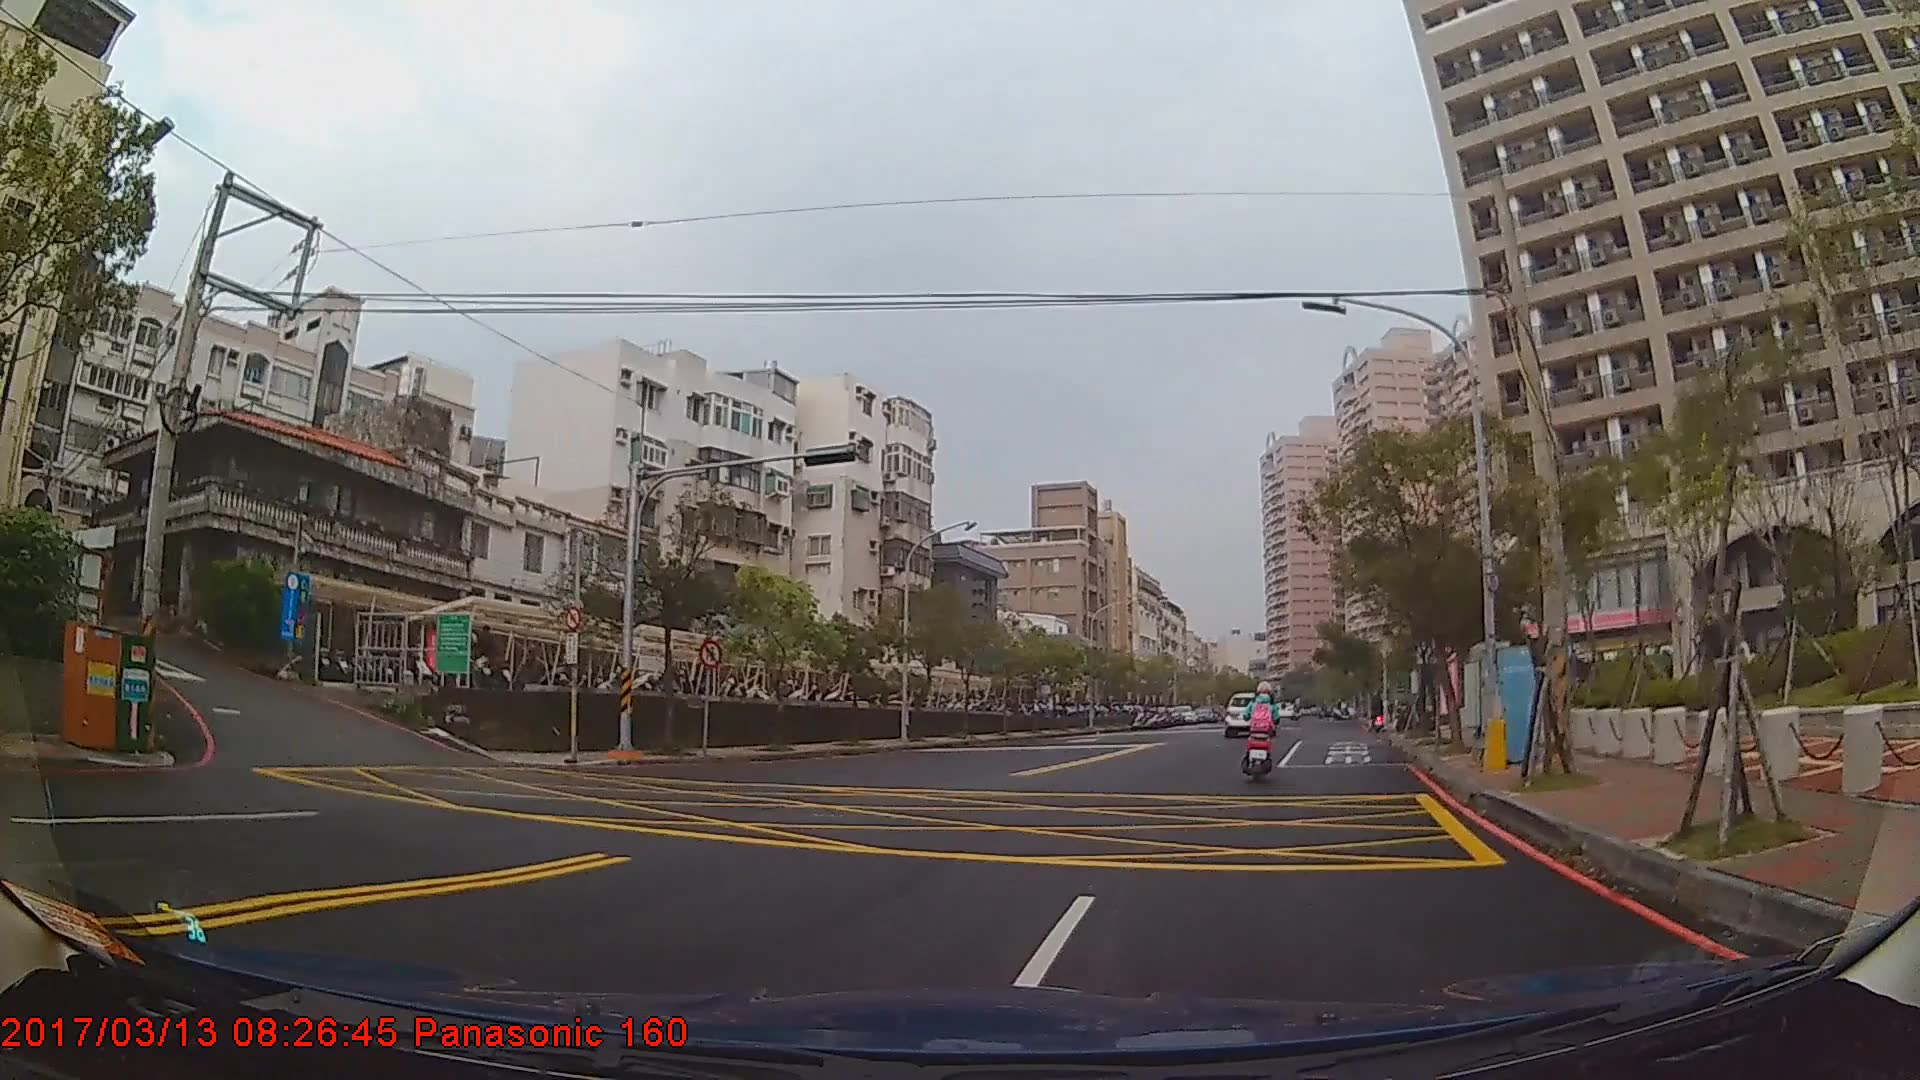rider: (1239, 679, 1286, 780)
vehicle: (1219, 690, 1272, 737)
